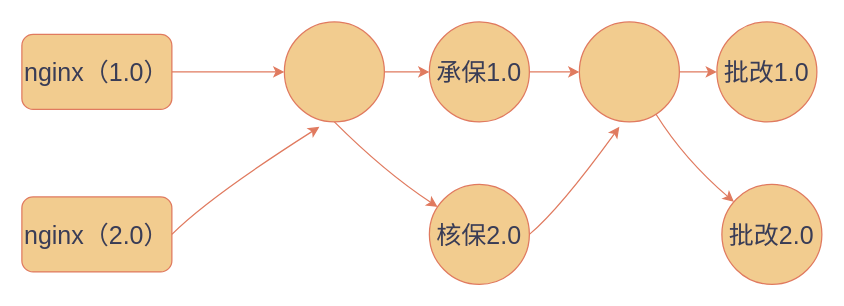
Image size: 844x306. Some labels were removed from this diagram. Each missing label, with the centre of its shape:
"查询" goes at (x=628, y=71).
"网关" goes at (x=333, y=71).
